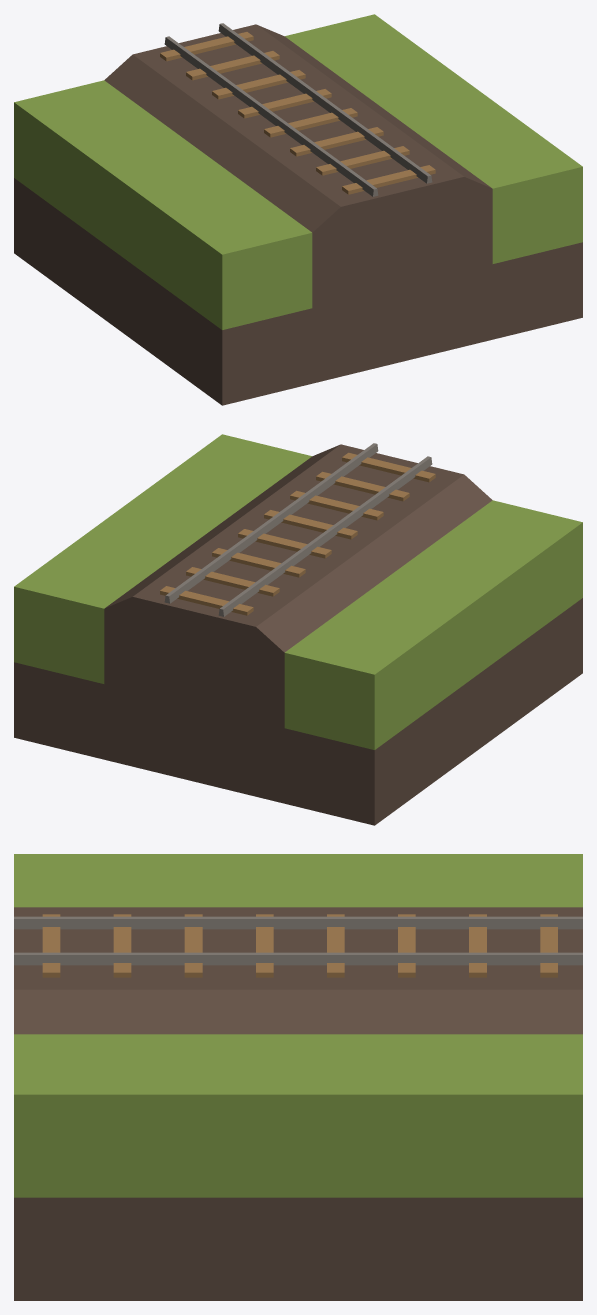
The model's file is rail-tile-straight_01_small.fbx.
3 renders of one model, top to bottom at view 1: azimuth 30°, elevation 25°; view 2: azimuth 150°, elevation 25°; view 3: azimuth 270°, elevation 25°, orthographic. The views are drawn at different scales.
Visible parts, largest first — view 1: rail-tile-straight_01_small; view 2: rail-tile-straight_01_small; view 3: rail-tile-straight_01_small.
Part boxes in pixels (x1,y1,x2,y2): rail-tile-straight_01_small: (14,14,582,405); rail-tile-straight_01_small: (14,434,582,825); rail-tile-straight_01_small: (14,854,582,1300).
Bounding box in the file's own units: 1000 × 475 × 1000.
